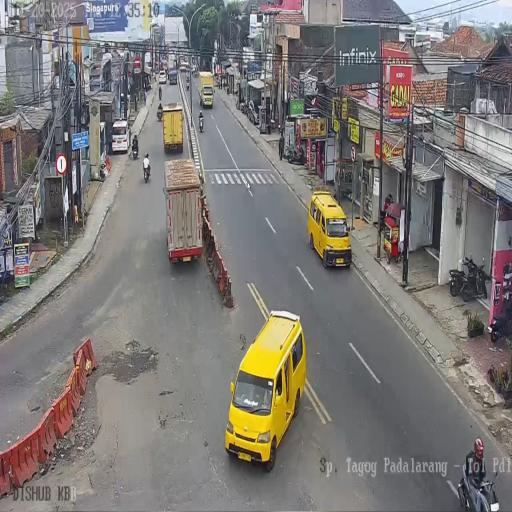3: (164, 156, 204, 264), (161, 102, 184, 153), (197, 70, 215, 109), (168, 53, 177, 71), (161, 58, 168, 72)
car: (307, 188, 349, 269), (110, 119, 130, 155), (247, 99, 259, 125), (168, 68, 178, 85), (159, 70, 167, 84), (179, 59, 187, 72)
motorcycle: (224, 307, 303, 468)
truck: (460, 255, 488, 302), (488, 302, 511, 342), (284, 142, 306, 166), (449, 268, 465, 297), (143, 162, 150, 182), (240, 99, 248, 116), (198, 115, 204, 132), (132, 144, 138, 160), (156, 107, 162, 121), (192, 65, 198, 76), (158, 86, 162, 100), (186, 76, 189, 90)
